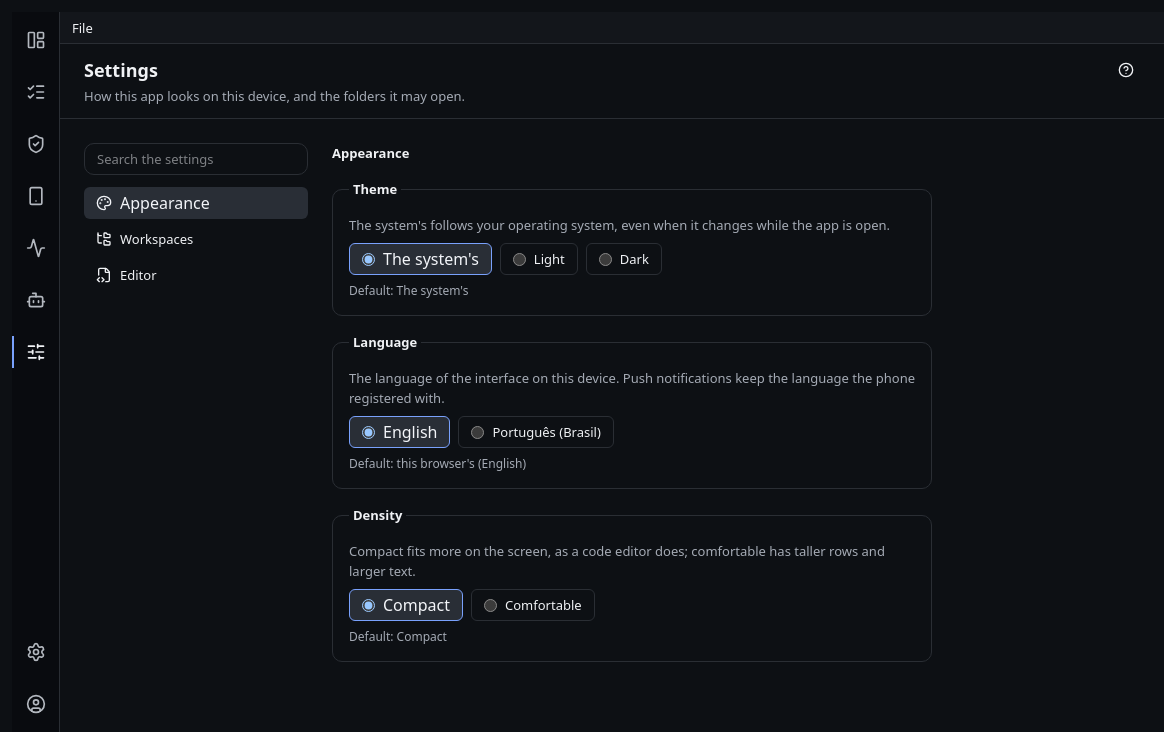
Test case: the app’s Settings — plan 06, B-31 › shows the section the address names, and moves the address with the section — S-142
Expected: the heading "Appearance" is shown, x1=332 y1=144 x2=409 y2=162
Step 1. Click the button "Workspaces" → (196, 239), box x1=84 y1=223 x2=308 y2=255
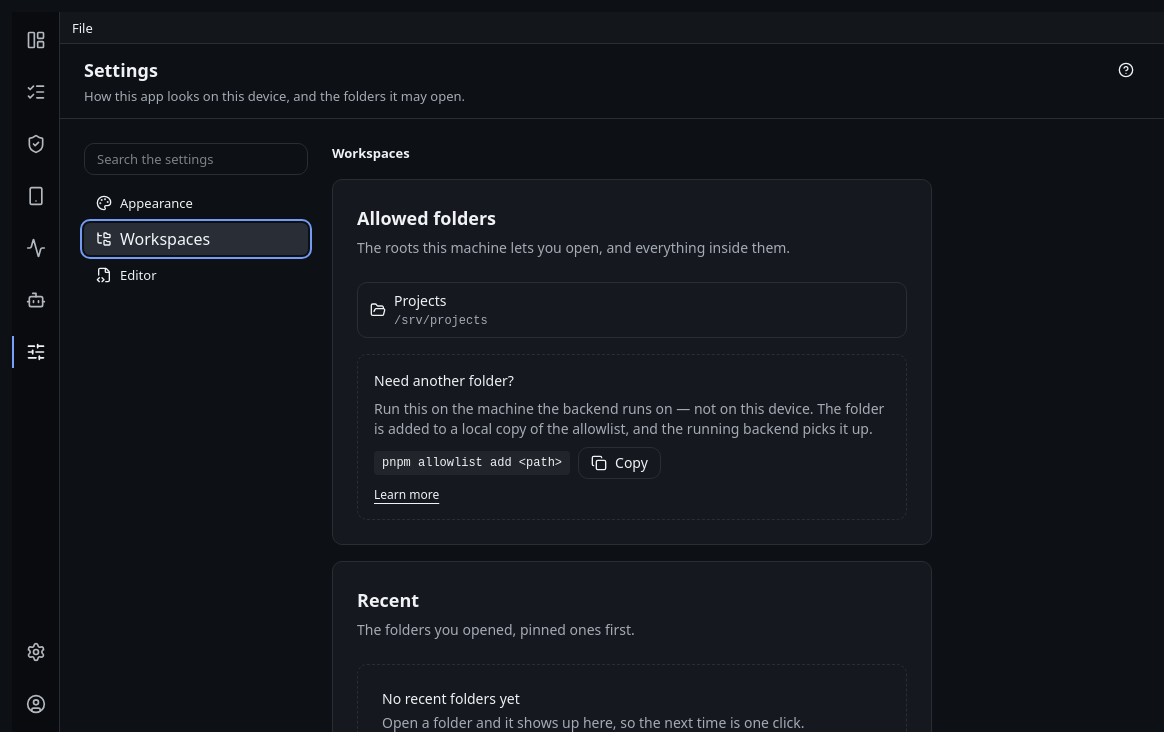
Expected: the heading "Workspaces" is shown, x1=332 y1=144 x2=410 y2=162
